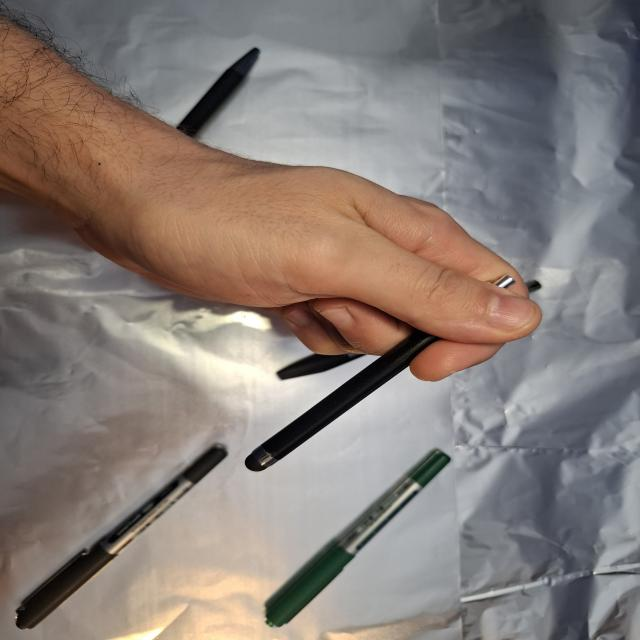glove_off: (65, 148, 548, 384)
